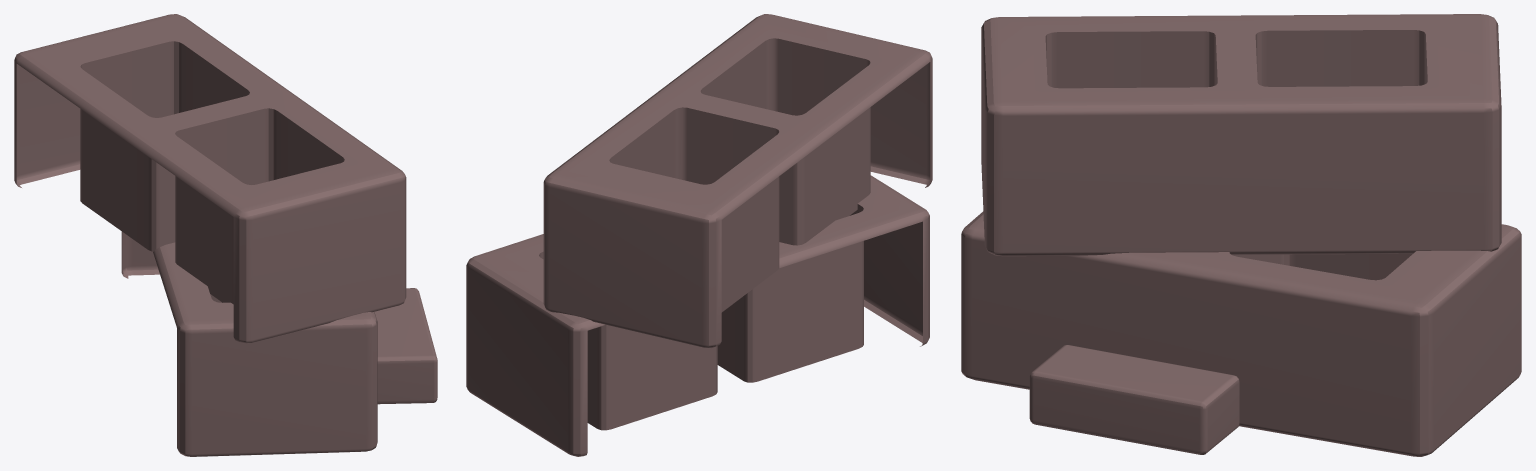
Rendered from Exterior_Brick_Stack.fbx.
3 views of the same model, side by side, from view 1: azimuth 30°, elevation 25°; view 2: azimuth 150°, elevation 25°; view 3: azimuth 270°, elevation 25° (orthographic). The views are drawn at different scales.
Visible parts, largest first — view 1: polySurface944, polySurface943, polySurface942; view 2: polySurface944, polySurface943; view 3: polySurface944, polySurface943, polySurface942.
Boxes of the visible parts, x1,y1,x2,y2 form: polySurface944: (14,14,406,343); polySurface943: (121,231,377,456); polySurface942: (374,288,437,404); polySurface944: (543,14,932,348); polySurface943: (466,175,929,456); polySurface944: (981,14,1501,256); polySurface943: (961,211,1521,456); polySurface942: (1029,345,1239,454).
Bounding box in the file's own units: 0.1065 × 0.0889 × 0.1514.
